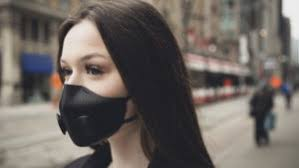with-mask: (52, 3, 186, 150)
